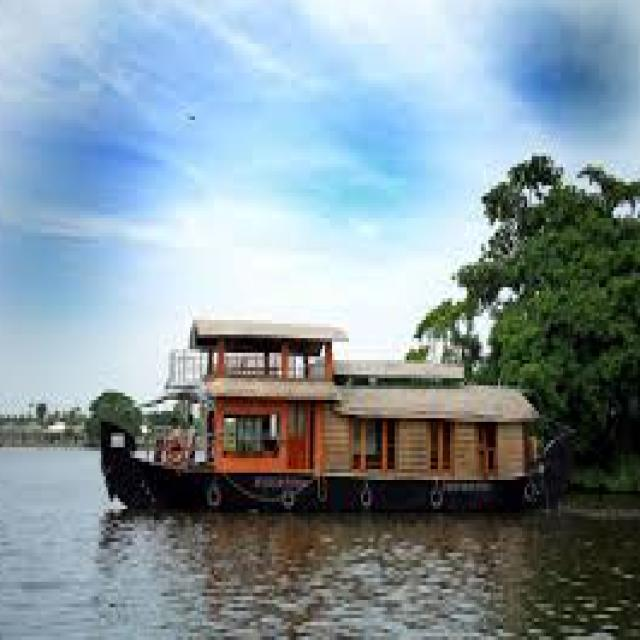fishing boat: (98, 316, 570, 522)
